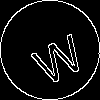W: (25, 25, 88, 87)
